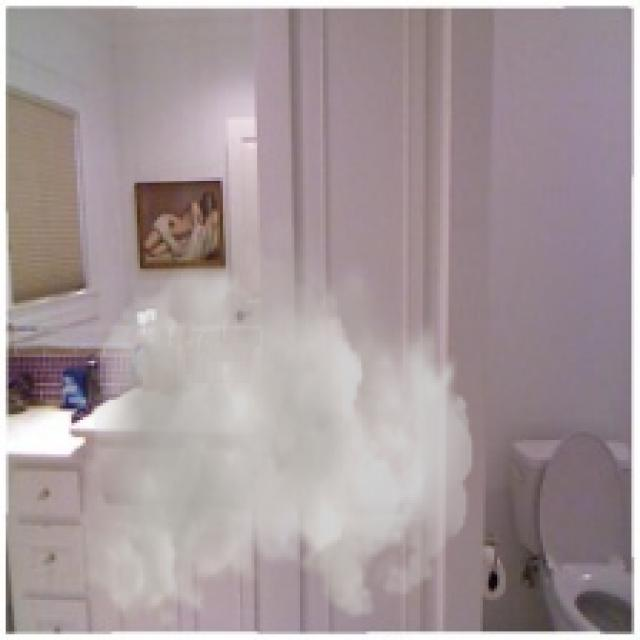smoke: (74, 209, 474, 634)
